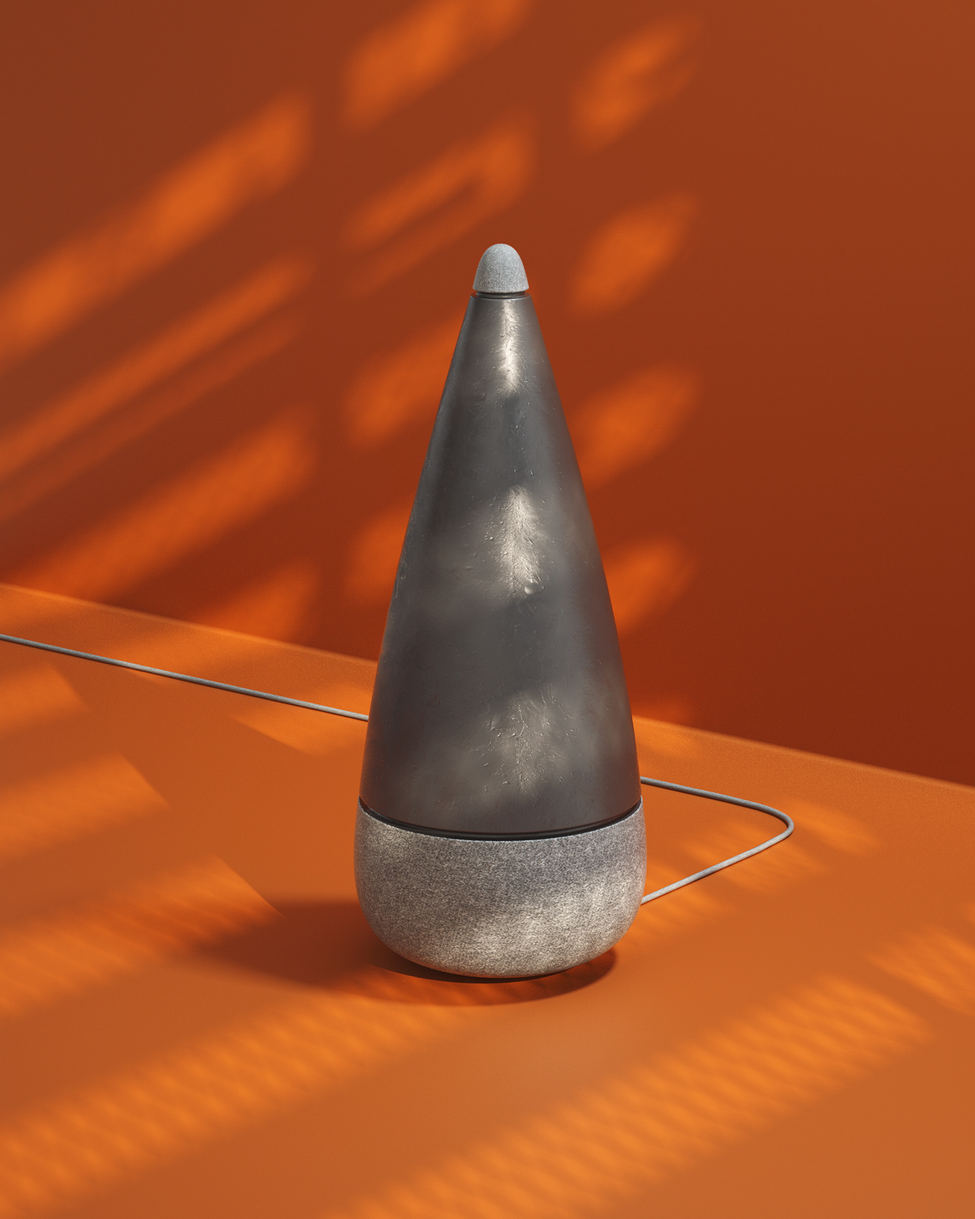not a gesture sign: (361, 296, 638, 835)
